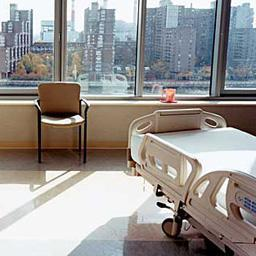Cama: (124, 103, 255, 253)
Ventana: (62, 2, 140, 97), (141, 1, 215, 99), (1, 2, 61, 99), (219, 5, 255, 99)
